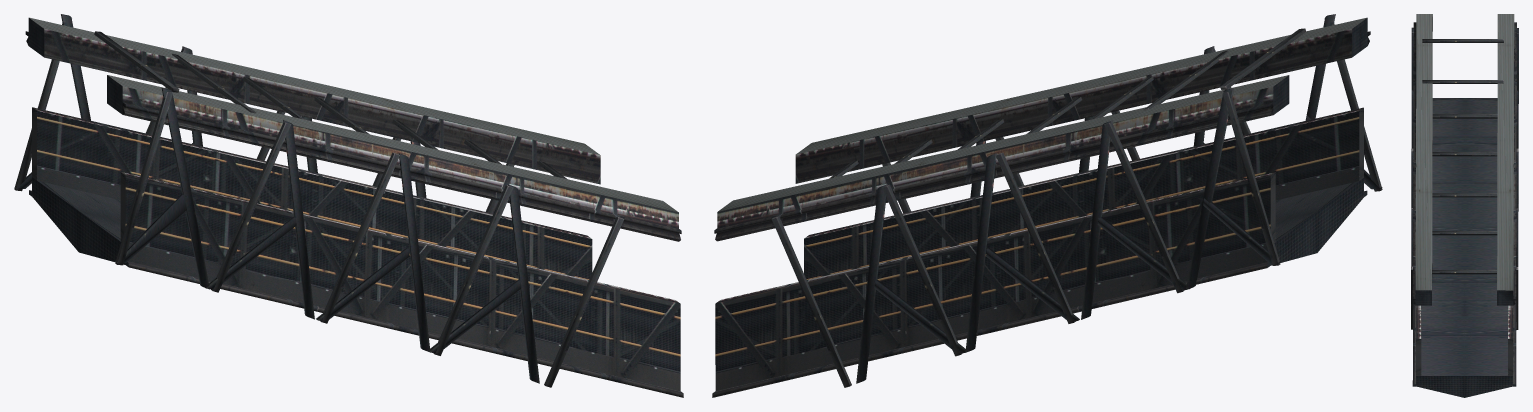
The model's file is industrial4.obj.
3 renders of one model, left to right at view 1: azimuth 30°, elevation 25°; view 2: azimuth 150°, elevation 25°; view 3: azimuth 270°, elevation 25°, orthographic. The views are drawn at different scales.
Parts seen in each view (by area): view 1: industrial1; view 2: industrial1; view 3: industrial1.
Part boxes in pixels (box(x1,y1,x2,y2)): industrial1: box(14, 14, 683, 397); industrial1: box(712, 14, 1382, 397); industrial1: box(1411, 14, 1518, 397).
Bounding box in the file's own units: 249 × 196 × 78.76.
1 material, 1 textured.
